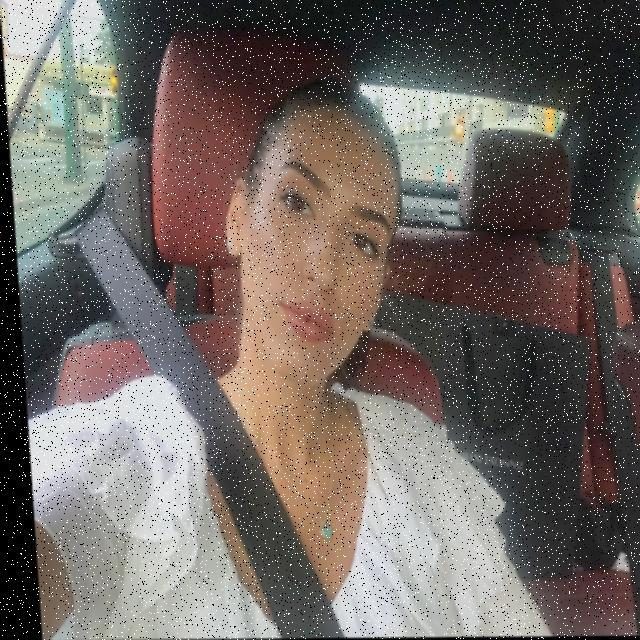seatbelt: (24, 338, 438, 640)
